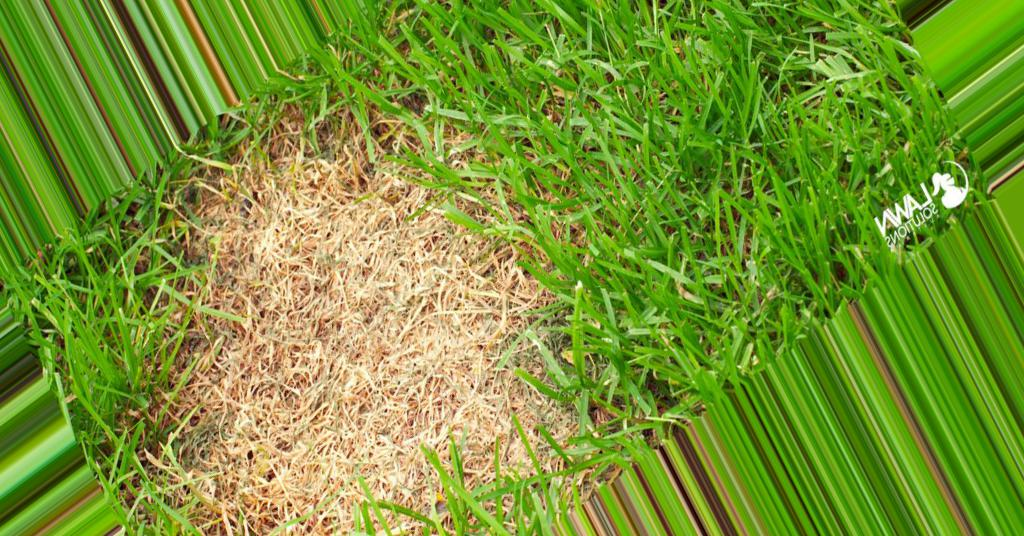patch: (201, 188, 493, 500)
